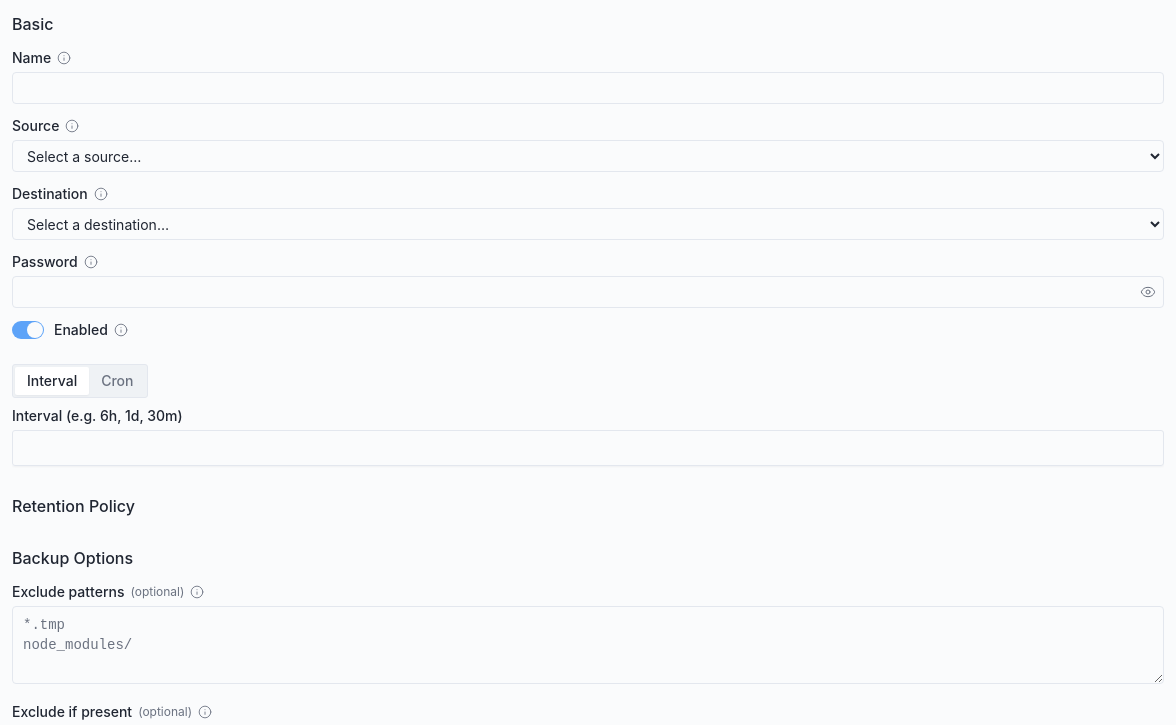
Test case: JobForm › create mode (no job prop) › points the sentinel hint at the source mount
Select "documents" in the dropdown labelled "Source". click: x=588, y=156
box: [12,140,1164,172]
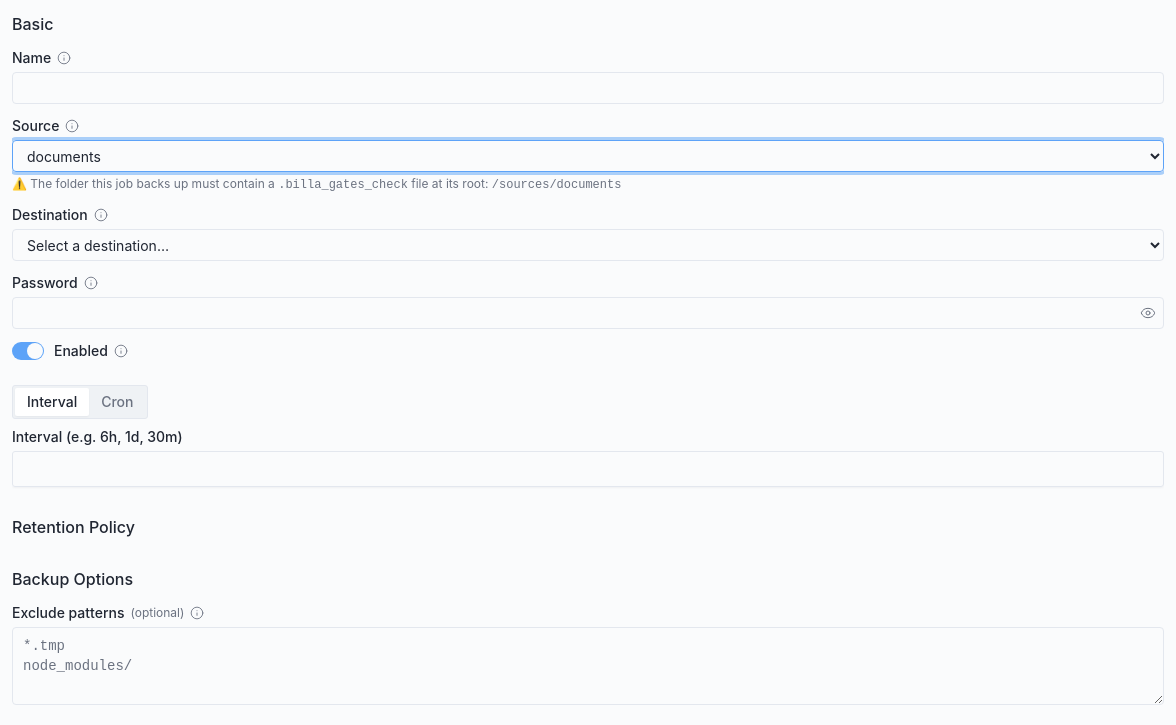
Expected: the text "/sources/documents" is shown, [492,178,621,192]
